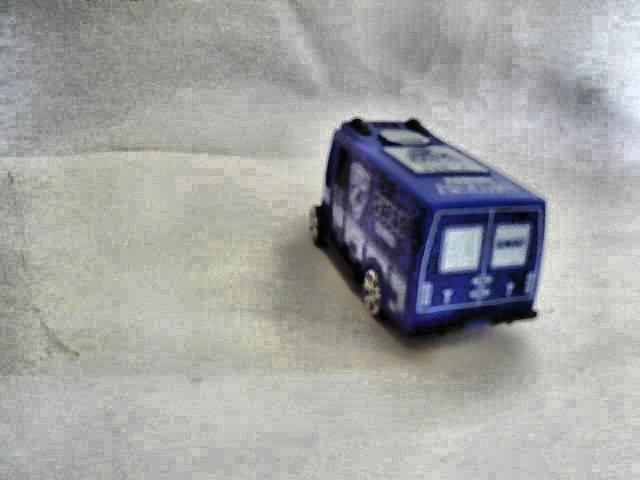police car: (307, 107, 552, 352)
